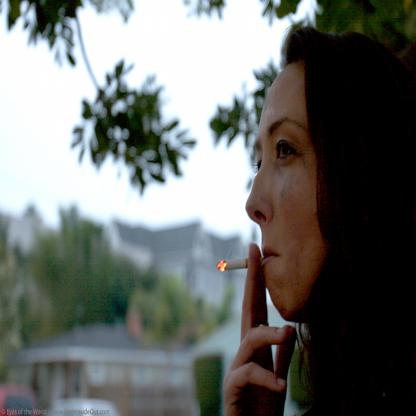smoking: (216, 257, 270, 272)
